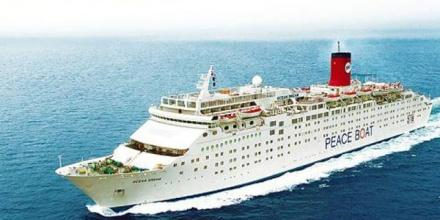youlun: (52, 55, 434, 208)
